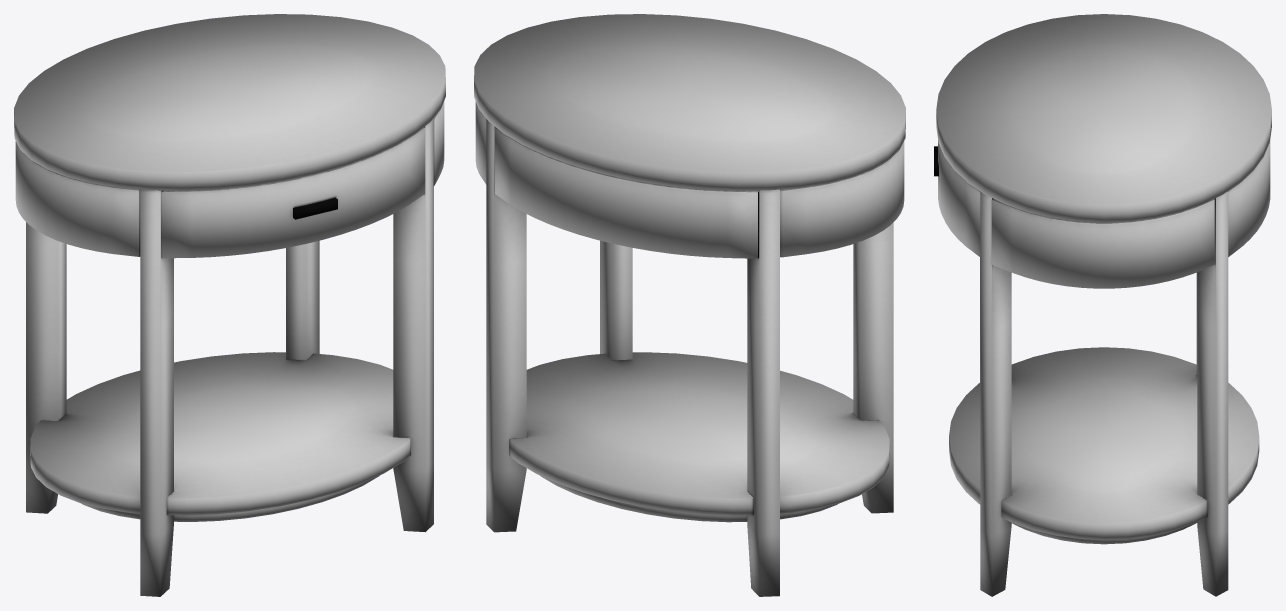
The model's file is cb-archnight-white_baked.glb.
3 renders of one model, left to right at view 1: azimuth 30°, elevation 25°; view 2: azimuth 150°, elevation 25°; view 3: azimuth 270°, elevation 25°, orthographic.
Parts seen in each view (by area): view 1: Mesh_0.016; view 2: Mesh_0.016; view 3: Mesh_0.016.
Part boxes in pixels (<box>): Mesh_0.016: <box>14,14,445,596</box>; Mesh_0.016: <box>474,14,905,596</box>; Mesh_0.016: <box>934,14,1271,596</box>.
Size of the model in its own units: 60.96 by 62.32 by 45.71.
1 material, 1 textured.
